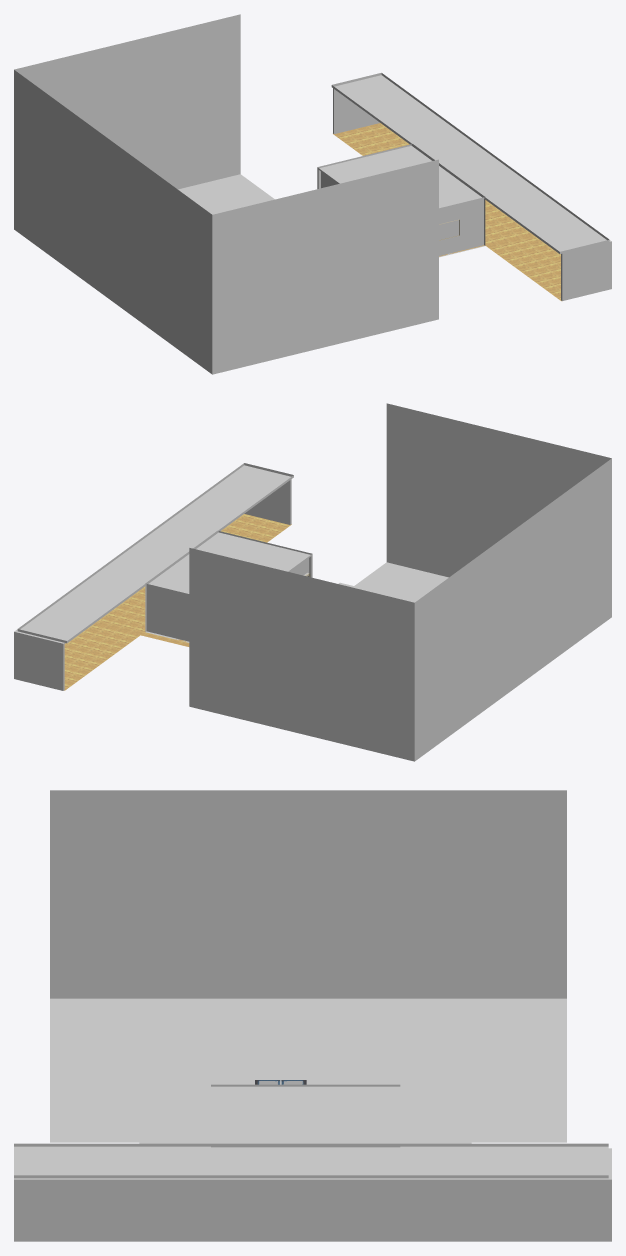
File: classroom_05.fbx
3 views of the same model, one above another, from view 1: azimuth 30°, elevation 25°; view 2: azimuth 150°, elevation 25°; view 3: azimuth 270°, elevation 25° (orthographic). The views are drawn at different scales.
Parts seen in each view (by area): view 1: 立方体.101, 立方体.103, Wall, floor.003; view 2: 立方体.101, 立方体.103, Wall, floor.003; view 3: 立方体.101, 立方体.103, 平面, Wall.
Boxes of the visible parts, <box> form: 立方体.101: <box>14,14,438,374</box>; 立方体.103: <box>331,72,611,300</box>; Wall: <box>317,144,485,257</box>; floor.003: <box>333,123,561,301</box>; 立方体.101: <box>189,403,611,761</box>; 立方体.103: <box>14,463,293,690</box>; Wall: <box>145,531,312,642</box>; floor.003: <box>64,514,291,690</box>; 立方体.101: <box>50,790,566,1142</box>; 立方体.103: <box>14,1143,611,1241</box>; 平面: <box>139,1055,471,1143</box>; Wall: <box>211,1084,400,1147</box>.
Size of the model in its own units: 2546 by 1008 by 2622.
